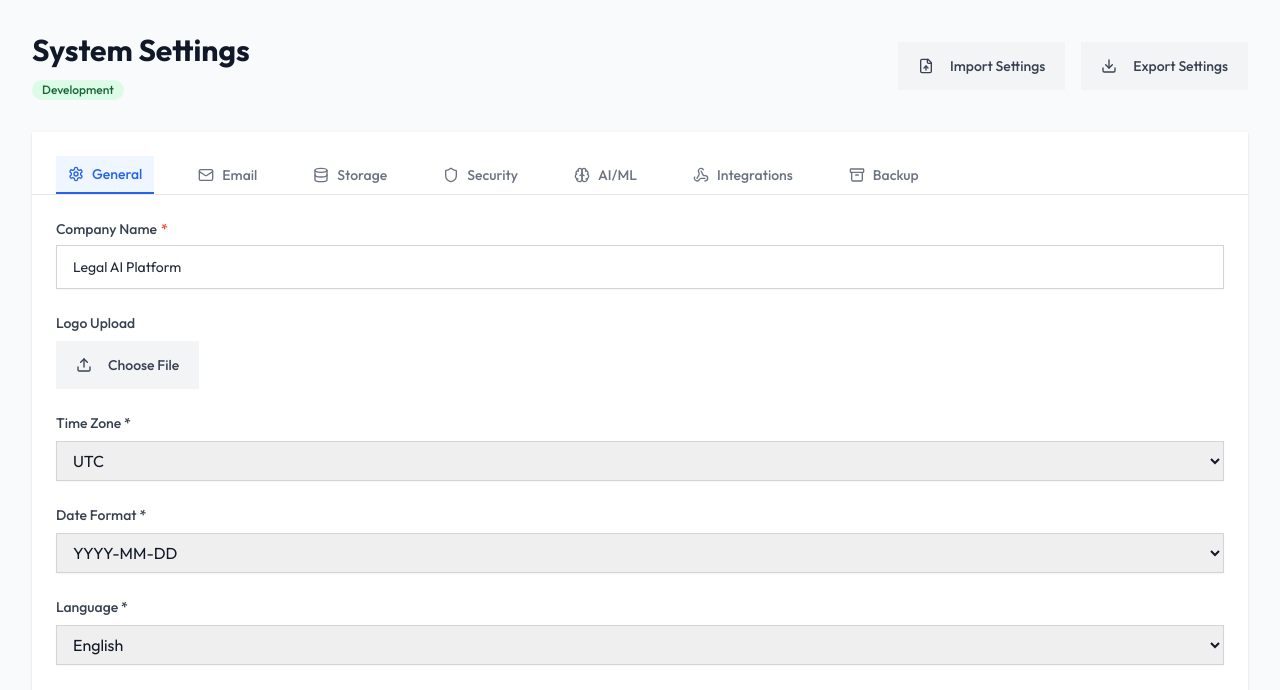
Test: SystemSettingsPage › Page Layout and Navigation › should switch tabs when clicked
The image size is (1280, 690).
Click the tab "Email": (228, 175) left=186, top=156, right=269, bottom=194
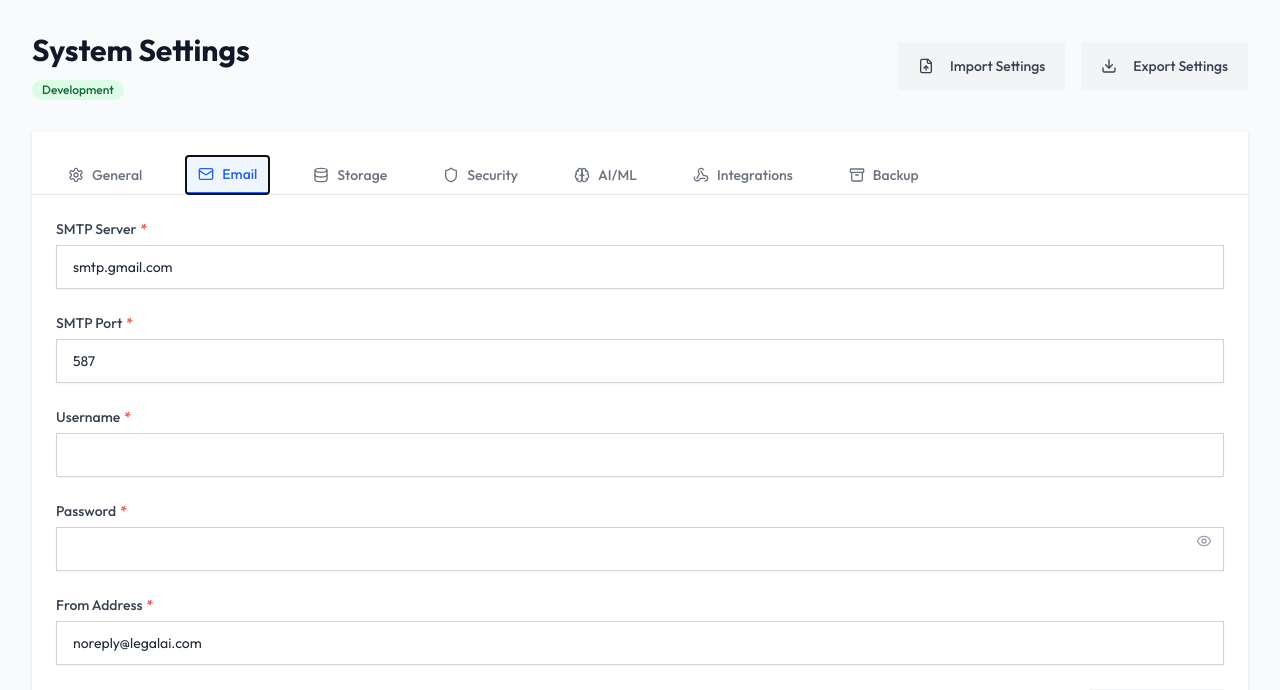
Result: the text "SMTP Server" is shown at left=56, top=220, right=136, bottom=238
